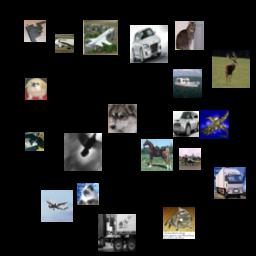airplane: (83, 20, 118, 55), (41, 190, 73, 222), (179, 148, 201, 170), (24, 20, 46, 42), (55, 34, 74, 53)
automobile: (130, 25, 168, 63), (173, 111, 199, 137)
bird: (64, 133, 102, 171), (200, 110, 229, 139)
cat: (163, 207, 195, 239), (175, 21, 204, 50), (77, 183, 99, 205), (25, 132, 44, 151)
deer: (212, 50, 250, 88)
dog: (108, 104, 137, 133), (25, 78, 47, 100)
ship: (173, 69, 202, 98)
truck: (98, 214, 136, 252), (214, 167, 246, 199)
